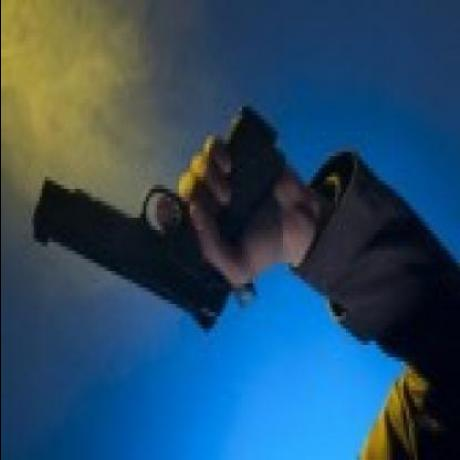1: (173, 138, 460, 458)
weapon: (19, 105, 283, 335)
